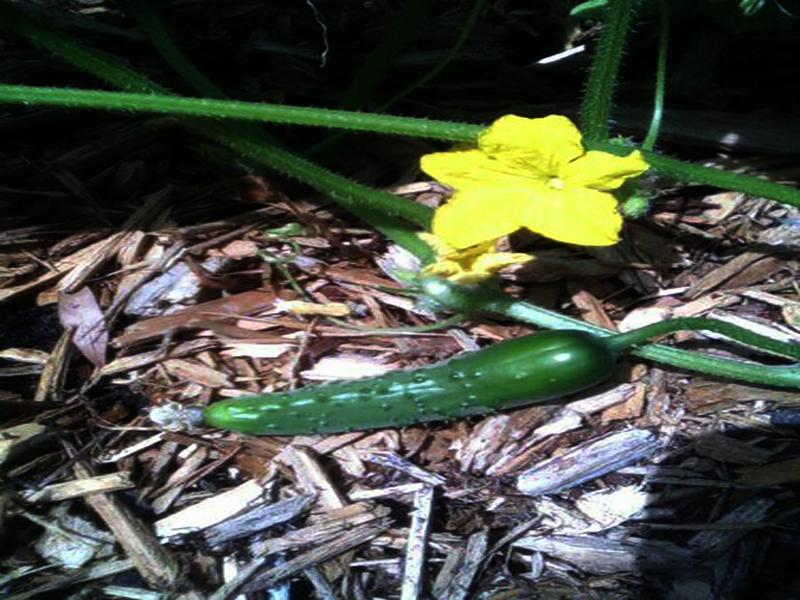Cucumber: (158, 329, 621, 439)
